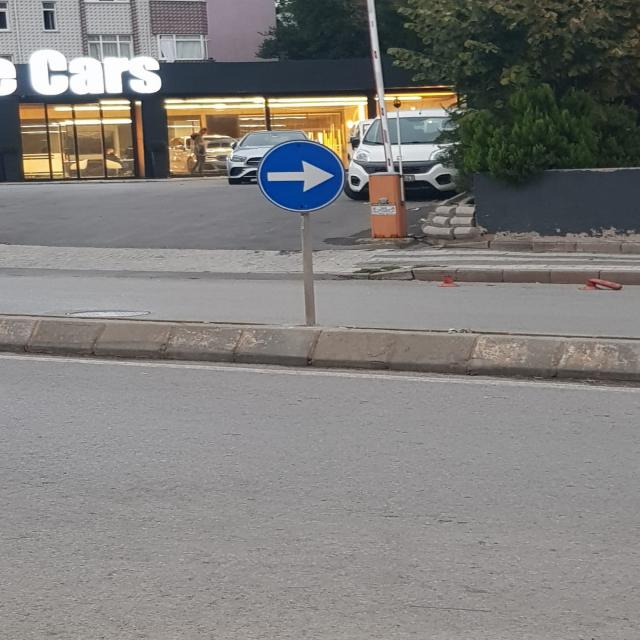Turn Right: (261, 143, 348, 213)
